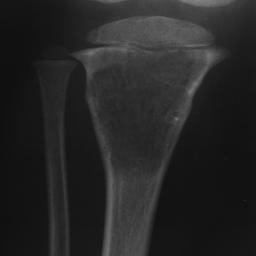cancer: (71, 47, 221, 173)
